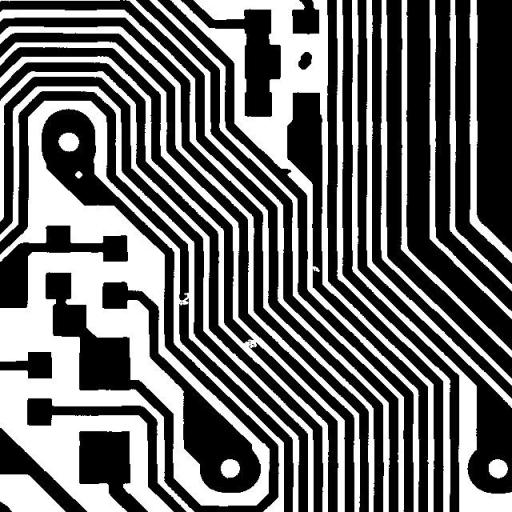copper: (290, 44, 320, 77)
mousebite: (303, 258, 327, 279)
open: (170, 285, 197, 313), (237, 331, 265, 355)
pin-hole: (67, 163, 90, 186)
spur: (270, 160, 298, 182)
